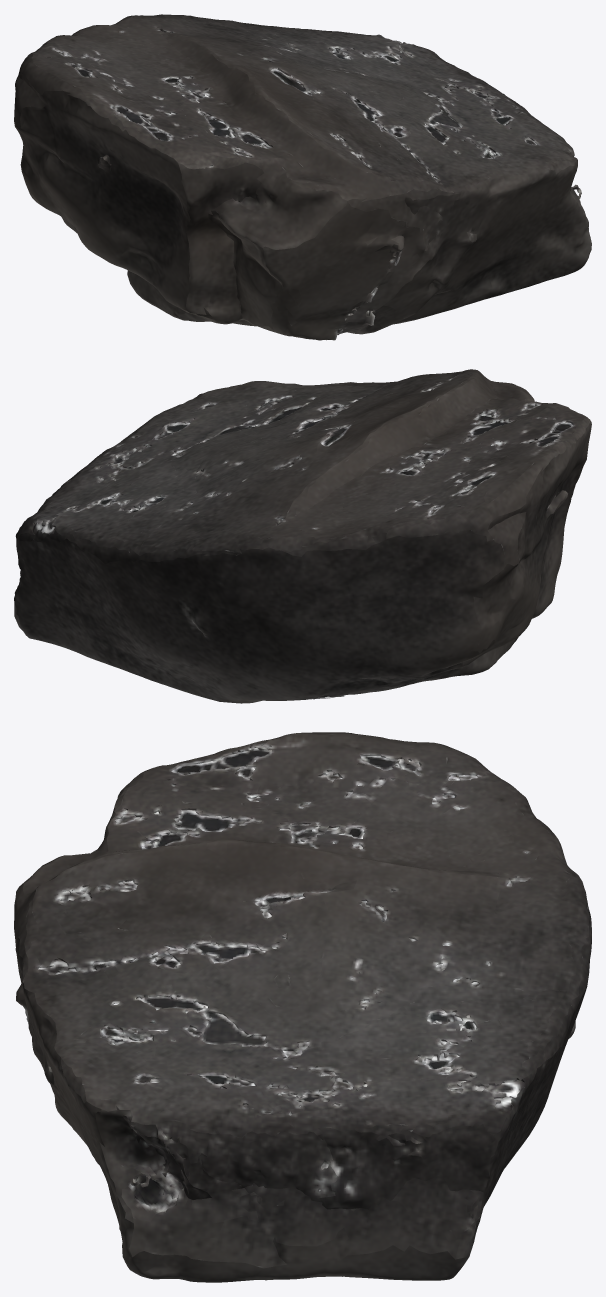
The picture shows the model from 3 angles, top to bottom: view 1: azimuth 30°, elevation 25°; view 2: azimuth 150°, elevation 25°; view 3: azimuth 270°, elevation 25°; orthographic projection. The views are drawn at different scales.
Visible parts, largest first — view 1: world; view 2: world; view 3: world.
Boxes of the visible parts, x1=… form: world: x1=14, y1=14, x2=591, y2=340; world: x1=14, y1=369, x2=591, y2=703; world: x1=14, y1=732, x2=591, y2=1282.
Size of the model in its own units: 0.45 by 0.223 by 0.3962.
Materials: 1 (1 with a texture image).
